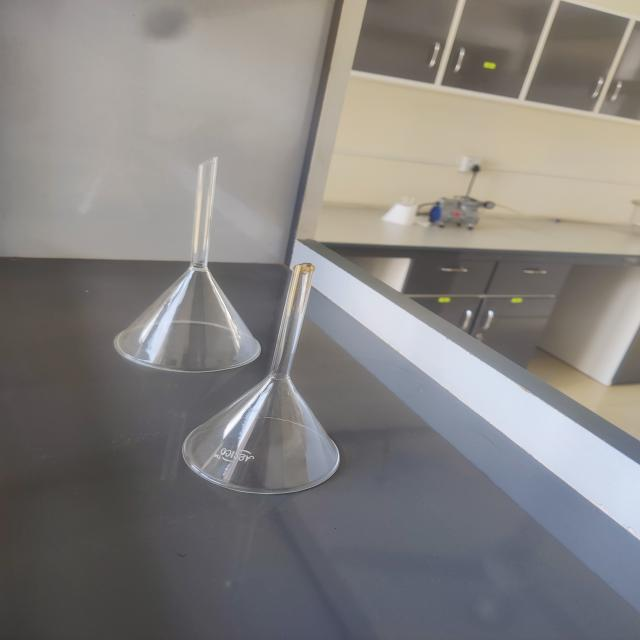Funnel: (154, 251, 386, 509), (103, 146, 292, 382)
